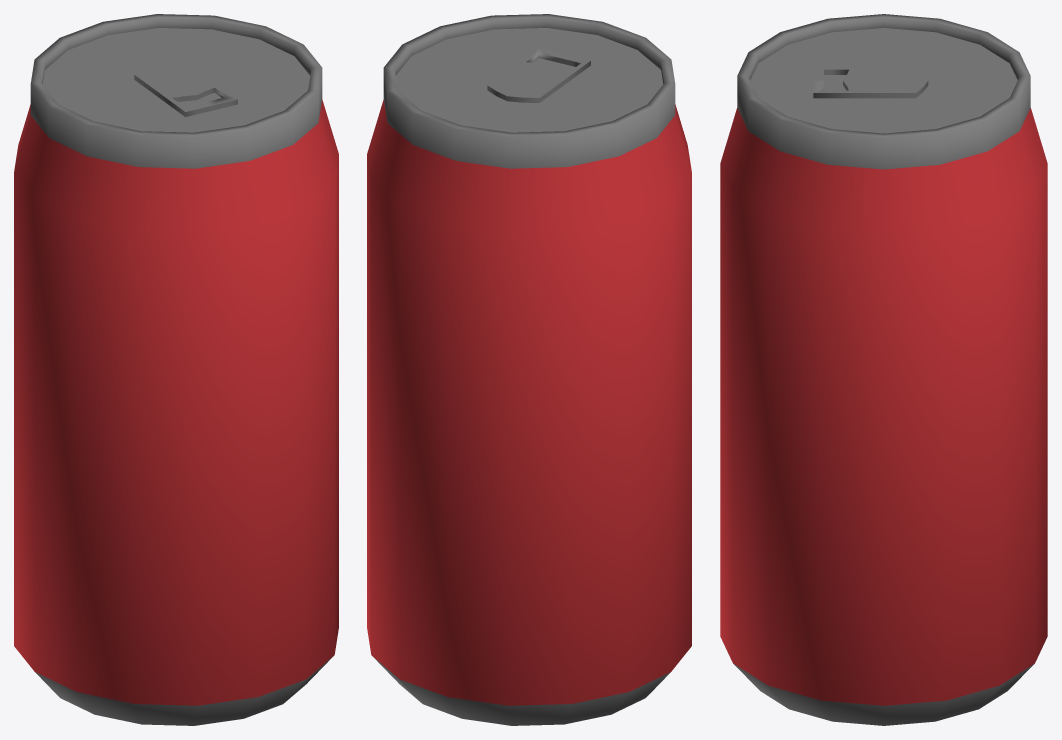
File: Can.fbx
3 renders of one model, left to right at view 1: azimuth 30°, elevation 25°; view 2: azimuth 150°, elevation 25°; view 3: azimuth 270°, elevation 25°, orthographic.
Parts seen in each view (by area): view 1: SM_Can; view 2: SM_Can; view 3: SM_Can.
Boxes of the visible parts, x1=… form: SM_Can: x1=14, y1=14, x2=338, y2=725; SM_Can: x1=367, y1=14, x2=691, y2=725; SM_Can: x1=720, y1=14, x2=1047, y2=725.
Bounding box in the file's own units: 0.06 × 0.06 × 0.1201.
